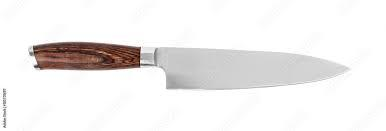Knife: (28, 40, 350, 89)
